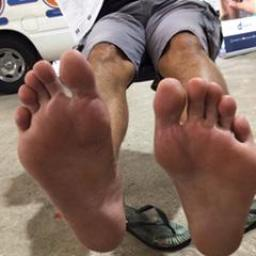Plantar View -Both Feet-: (7, 44, 255, 255)
